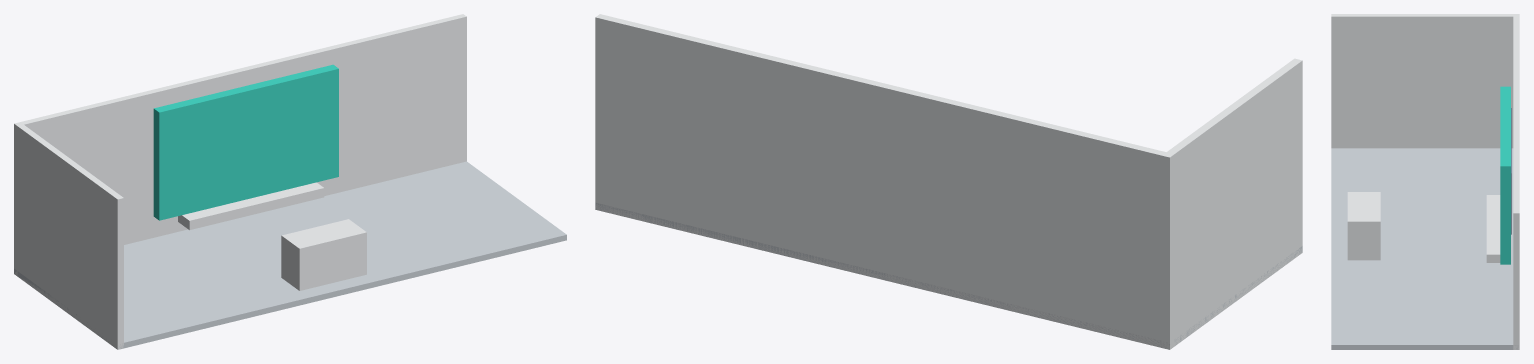
The picture shows the model from 3 angles, left to right: view 1: azimuth 30°, elevation 25°; view 2: azimuth 150°, elevation 25°; view 3: azimuth 270°, elevation 25°; orthographic projection. The views are drawn at different scales.
Visible parts, largest first — view 1: Exhibition Booth Concept; view 2: Exhibition Booth Concept; view 3: Exhibition Booth Concept.
Part boxes in pixels (x1,y1,x2,y2): Exhibition Booth Concept: (14,14,566,349); Exhibition Booth Concept: (595,14,1302,349); Exhibition Booth Concept: (1331,14,1519,349).
Bounding box in the file's own units: 10 × 3.2 × 4.
